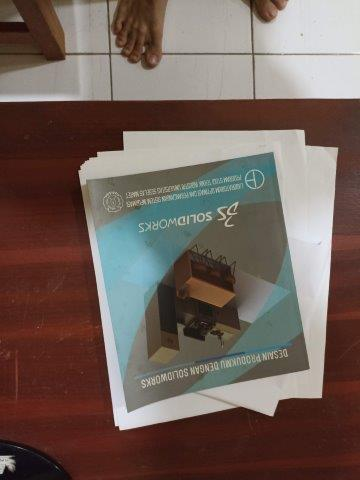kertas: (78, 129, 338, 432)
